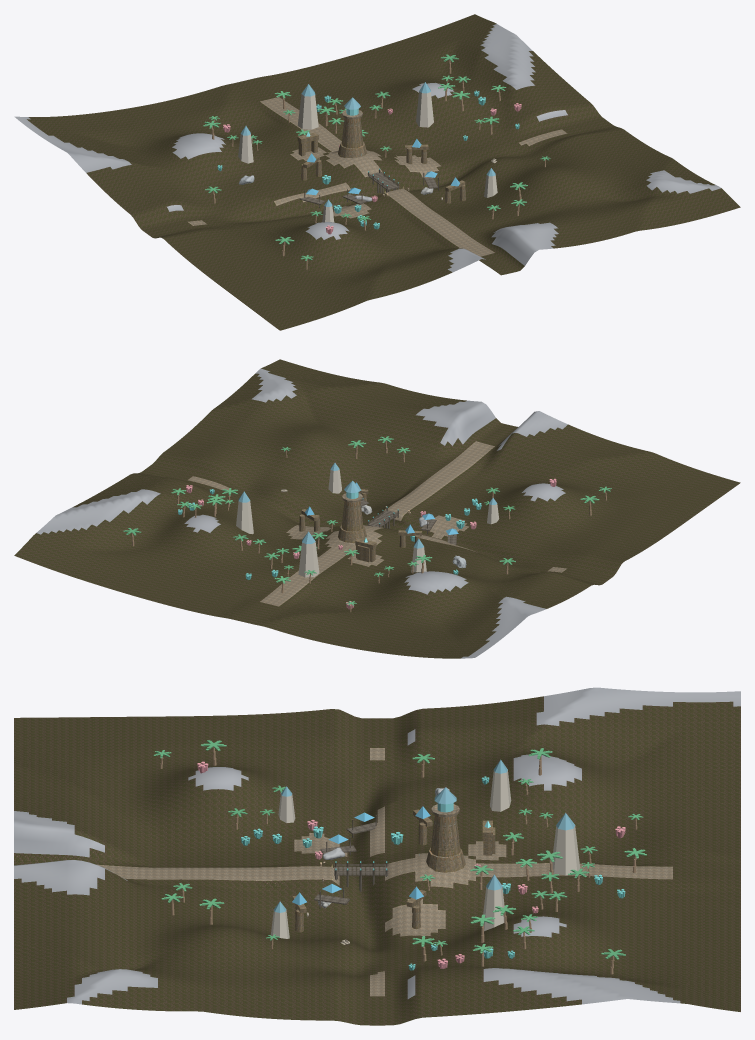
File: world.glb
The picture shows the model from 3 angles, top to bottom: view 1: azimuth 30°, elevation 25°; view 2: azimuth 150°, elevation 25°; view 3: azimuth 270°, elevation 25°; orthographic projection. The views are drawn at different scales.
Visible parts, largest first — view 1: glasswater_Terrain, glasswater_ImportedCatalogAndFlora, glasswater_Roads, glasswater_Masonry, glasswater_Timber; view 2: glasswater_Terrain, glasswater_ImportedCatalogAndFlora, glasswater_Roads, glasswater_Masonry, glasswater_Timber; view 3: glasswater_Terrain, glasswater_ImportedCatalogAndFlora, glasswater_Roads, glasswater_Masonry, glasswater_Timber.
Boxes of the visible parts, x1,y1,x2,y2 form: glasswater_Terrain: [27, 14, 740, 330]; glasswater_ImportedCatalogAndFlora: [14, 24, 720, 272]; glasswater_Roads: [188, 97, 567, 256]; glasswater_Masonry: [297, 118, 465, 203]; glasswater_Timber: [299, 170, 438, 207]; glasswater_Terrain: [14, 359, 740, 658]; glasswater_ImportedCatalogAndFlora: [36, 368, 611, 658]; glasswater_Roads: [188, 441, 566, 606]; glasswater_Masonry: [299, 489, 421, 562]; glasswater_Timber: [360, 500, 456, 544]; glasswater_Terrain: [14, 696, 740, 1025]; glasswater_ImportedCatalogAndFlora: [14, 687, 740, 1004]; glasswater_Roads: [97, 748, 672, 996]; glasswater_Masonry: [292, 809, 495, 932]; glasswater_Timber: [314, 815, 388, 908].
Size of the model in its own units: 224 by 38.71 by 224.
5 materials, 4 textured.
